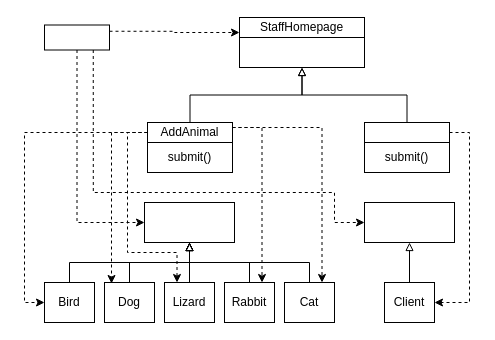
This 495x340 diagram has some shape labels left out. The shapes that lost their labels are listed below. From the top down, each one's centre as x and y in pixels, then its label:
At point 77,37: "Profiles".
At point 301,52: "StaffClientMenu() AnimalMenu()".
At point 407,132: "AddClient".
At point 189,222: "AnimalProfile".
At point 409,222: "ClientProfile".
